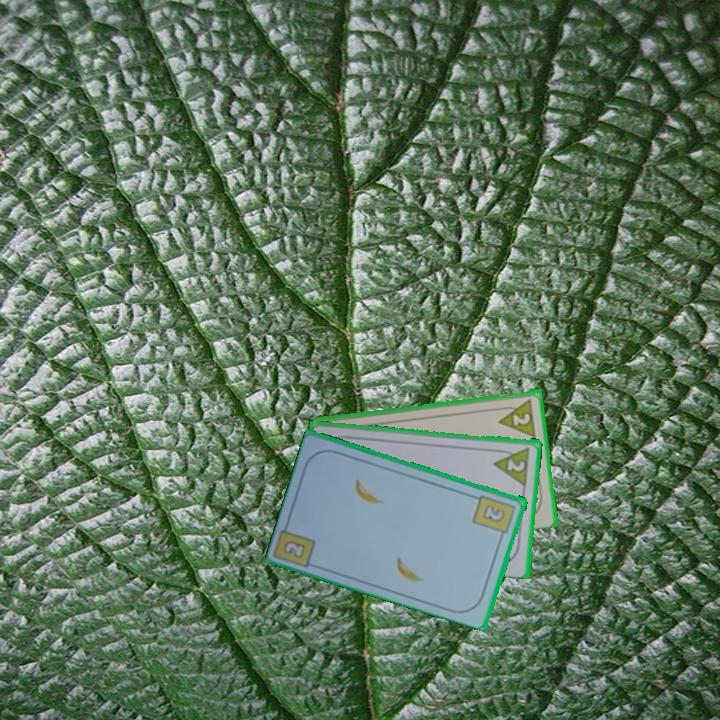2b: (470, 491, 519, 542), (280, 537, 309, 561)
2p: (494, 395, 539, 438), (503, 456, 528, 474)
